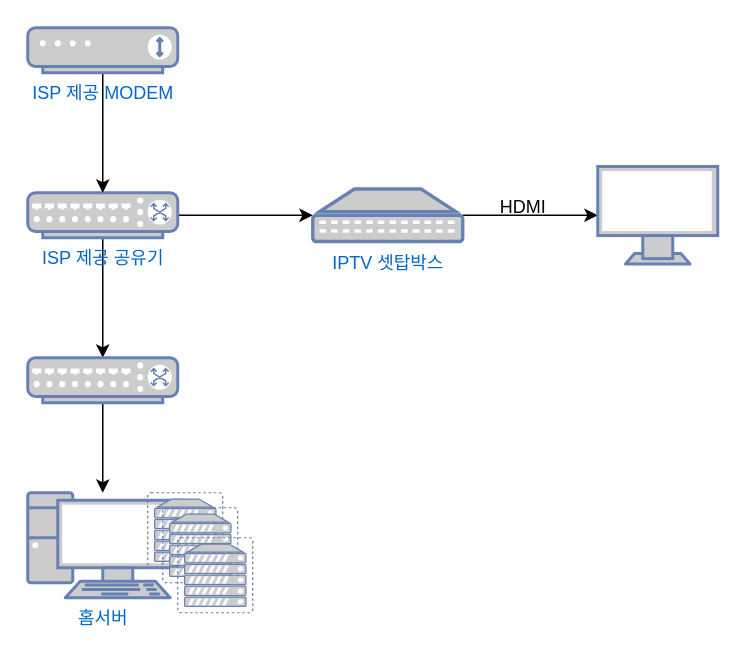
This 744x654 diagram has some shape labels left out. The centre of each missing label's shape, as x and y in pixels:
"TV" belongs at (x=657, y=214).
"내부 공유기" belongs at (x=102, y=380).
